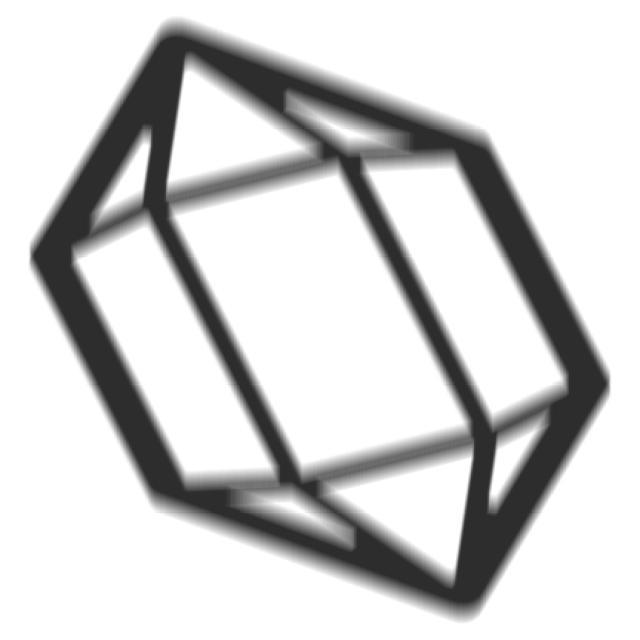crystal: (16, 13, 624, 629)
